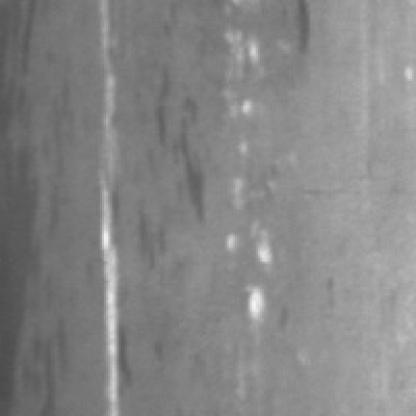inclusion: (2, 68, 62, 414), (150, 68, 214, 220)
scratches: (223, 23, 278, 322), (96, 10, 127, 410)
